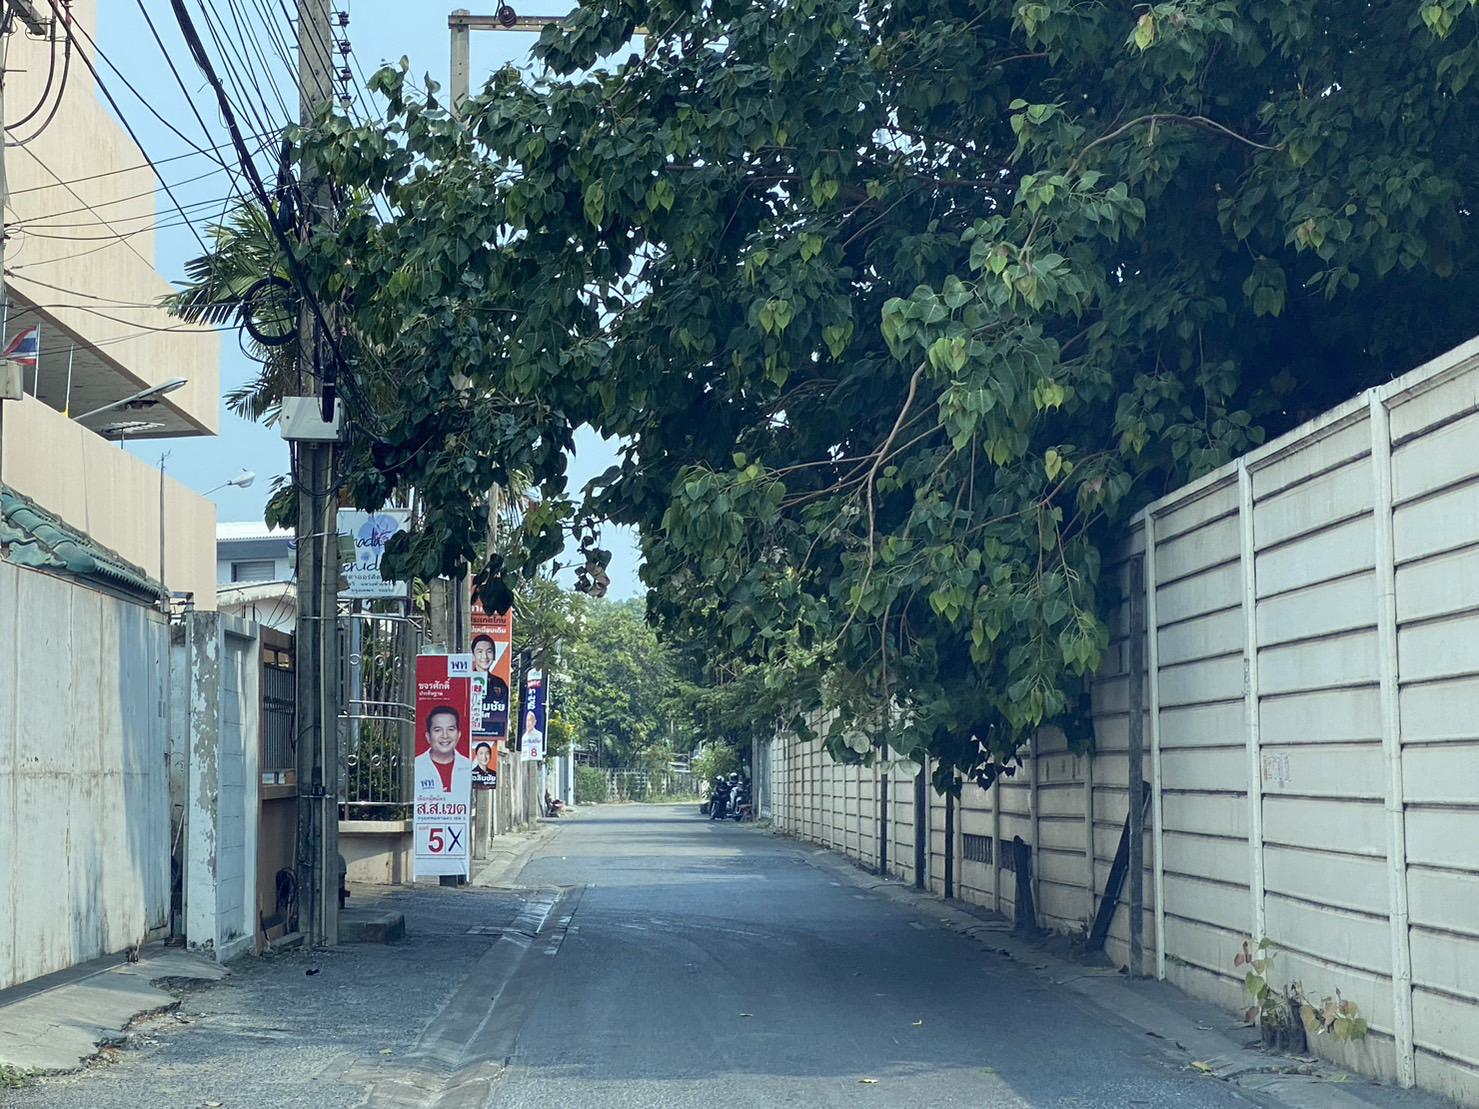Banner: (399, 670, 479, 874), (463, 607, 512, 779)
